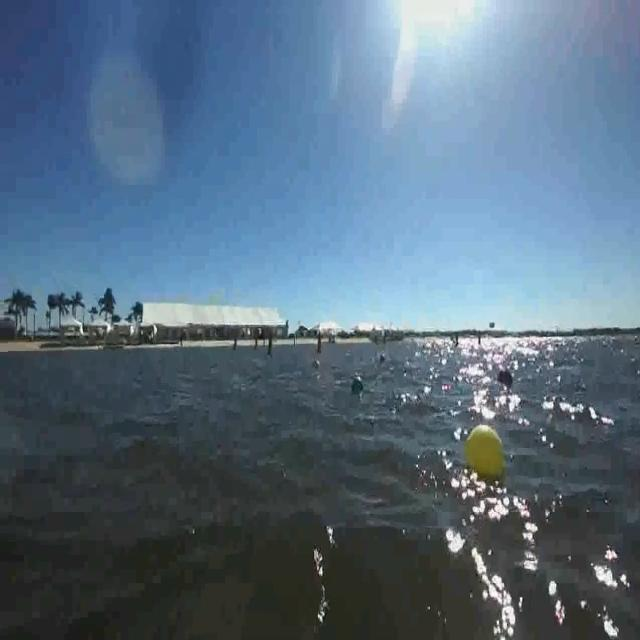yellow-buoy: (462, 422, 508, 482)
